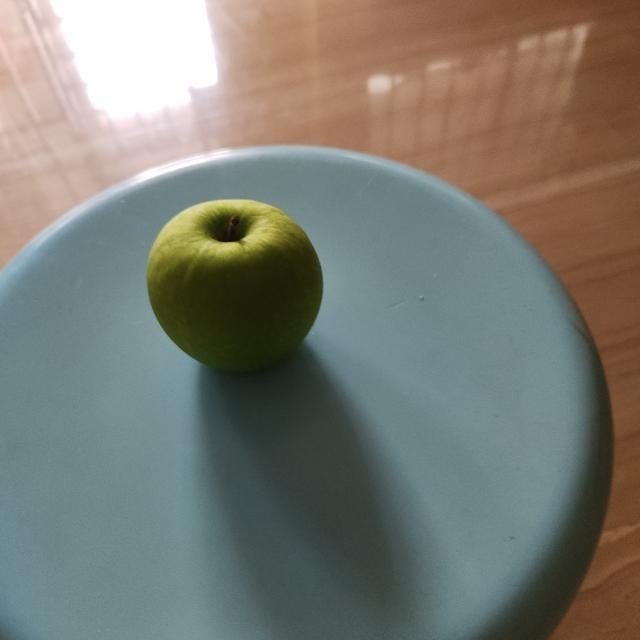apple: (139, 186, 332, 387)
